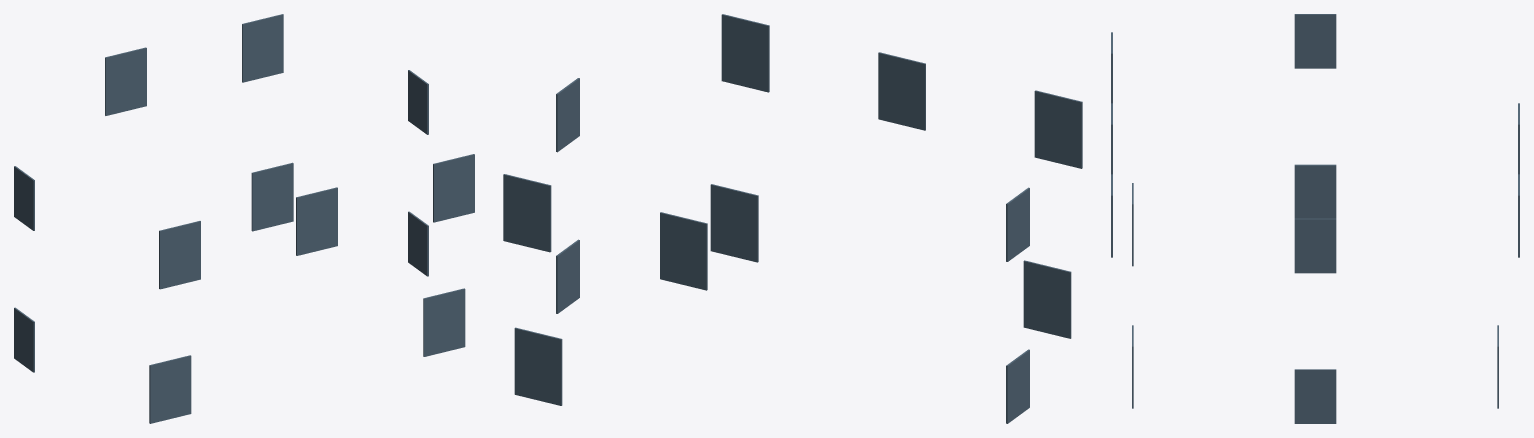
Rendered from House_Timber2_Glass.fbx.
3 views of the same model, side by side, from view 1: azimuth 30°, elevation 25°; view 2: azimuth 150°, elevation 25°; view 3: azimuth 270°, elevation 25° (orthographic). The views are drawn at different scales.
Parts seen in each view (by area): view 1: House_Timber2_Glass; view 2: House_Timber2_Glass; view 3: House_Timber2_Glass.
Part boxes in pixels (bbox=[...]): House_Timber2_Glass: bbox=[14, 14, 474, 423]; House_Timber2_Glass: bbox=[503, 14, 1082, 423]; House_Timber2_Glass: bbox=[1111, 14, 1519, 423].
Size of the model in its own units: 8.18 by 6.88 by 3.95.
